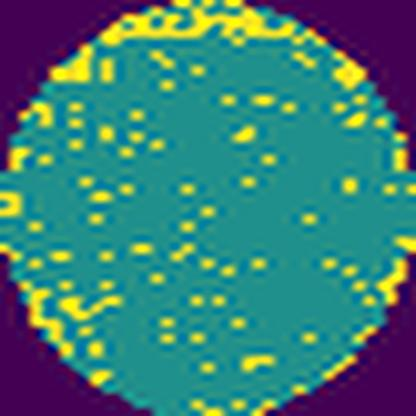Edge-Loc: (40, 0, 382, 84)
